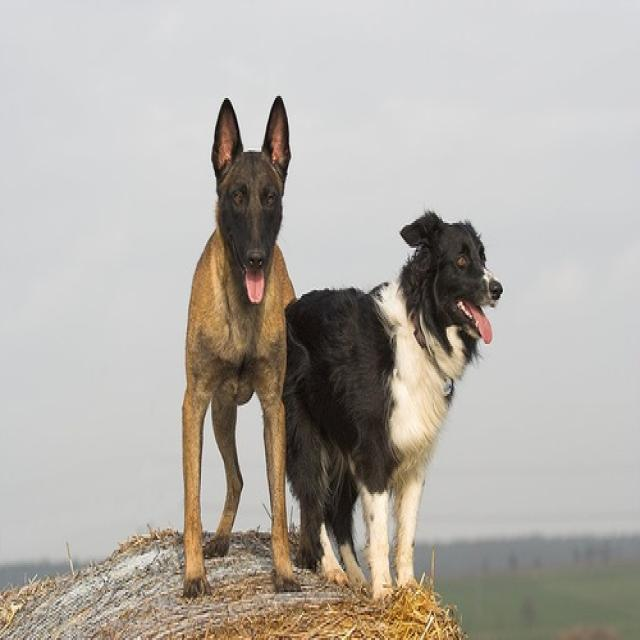dog: (283, 210, 505, 598), (168, 94, 303, 580)
